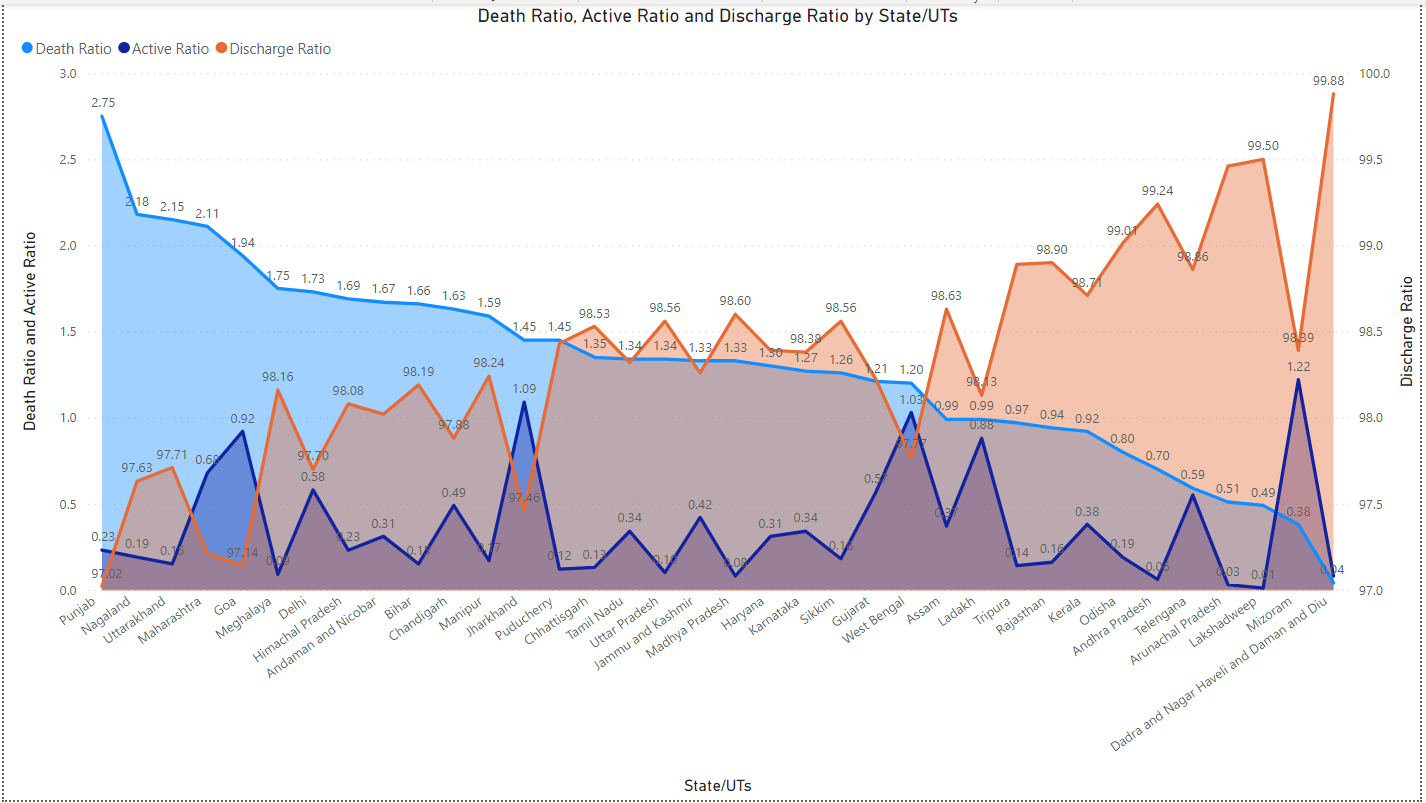

The dashboard page shown, as its layout file describes it:
{"tool":"powerbi","page":{"name":"visual3","canvas":[1280,720],"ordinal":2},"visuals":[{"type":"areaChart","fields":{"Category":["Latest Covid-19 India Status.State/UTs"],"Y":["Sum(Latest Covid-19 India Status.Death Ratio)","Sum(Latest Covid-19 India Status.Active Ratio)"],"Y2":["Sum(Latest Covid-19 India Status.Discharge Ratio)"]},"box":[9.6,0,1270.4,719.7],"z":0}]}

Visuals, with their boxes in screenshot pixels (x1, y1, x2, y2), scaled from the page's 1280x720 canvas onto the 1426x803 screenshot:
areaChart - Latest Covid-19 India Status.State/UTs x Sum(Latest Covid-19 India Status.Death Ratio): 11 0 1425 802
